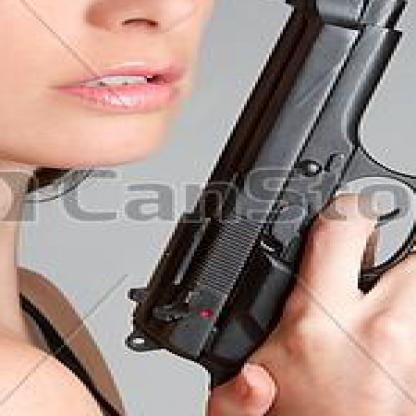gun: (128, 0, 413, 414)
